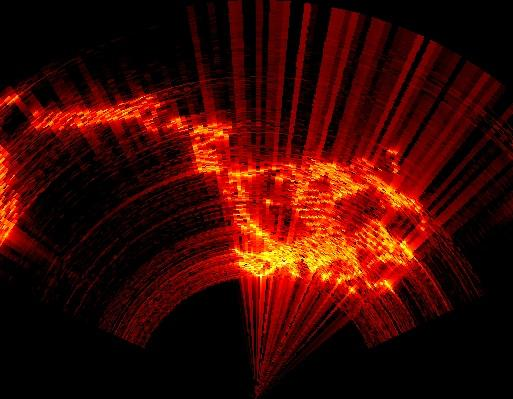shipwreck: (165, 116, 422, 290), (80, 95, 163, 130)
